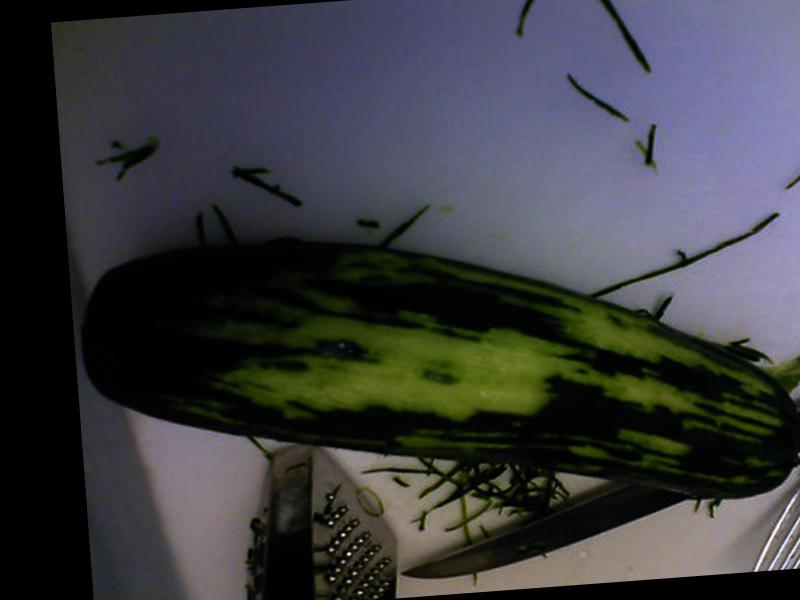Cucumber: (75, 201, 800, 548)
